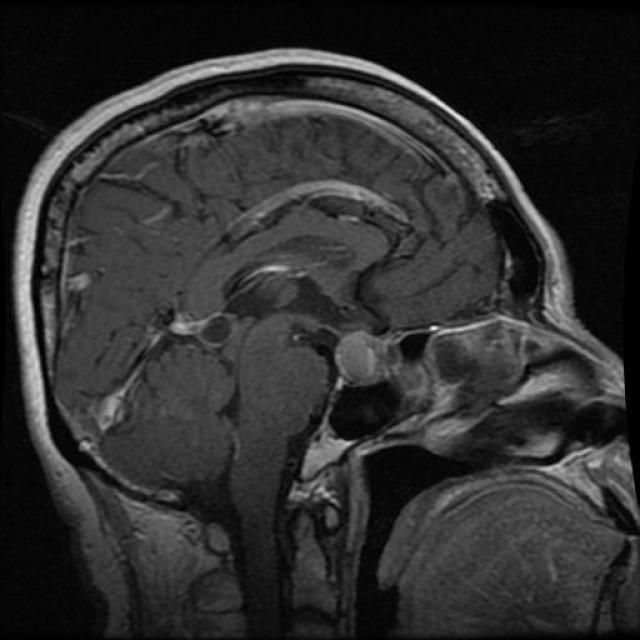pituitary: (324, 317, 387, 391)
